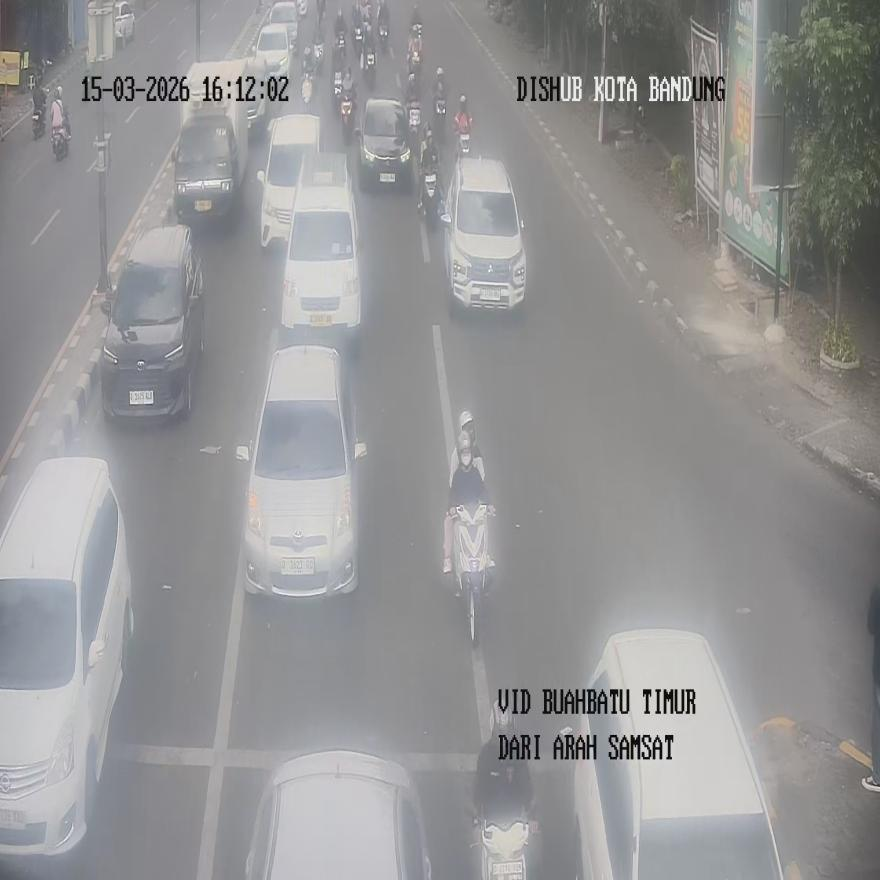Mobil: (0, 457, 133, 856), (572, 629, 784, 878), (236, 343, 366, 597), (245, 751, 432, 879), (100, 224, 204, 421), (280, 152, 361, 343), (440, 154, 526, 312), (170, 58, 249, 220), (257, 113, 321, 249)
Motor: (468, 702, 538, 878), (448, 504, 495, 647), (469, 802, 539, 880), (418, 163, 440, 226), (340, 88, 355, 143), (32, 81, 46, 138), (52, 119, 69, 160), (407, 99, 422, 145), (434, 92, 446, 146), (407, 28, 421, 73), (302, 68, 314, 111), (364, 46, 376, 88), (332, 69, 343, 112), (457, 119, 470, 155), (32, 108, 45, 140), (378, 24, 389, 56)
